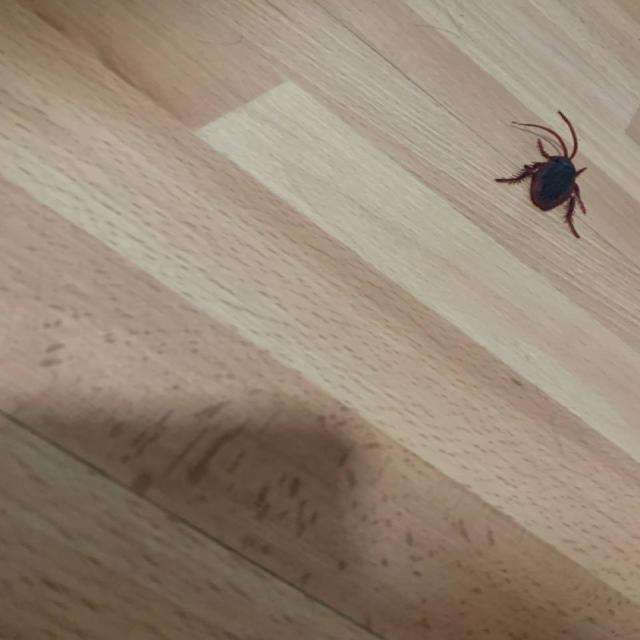Cockroach: (499, 106, 596, 242)
